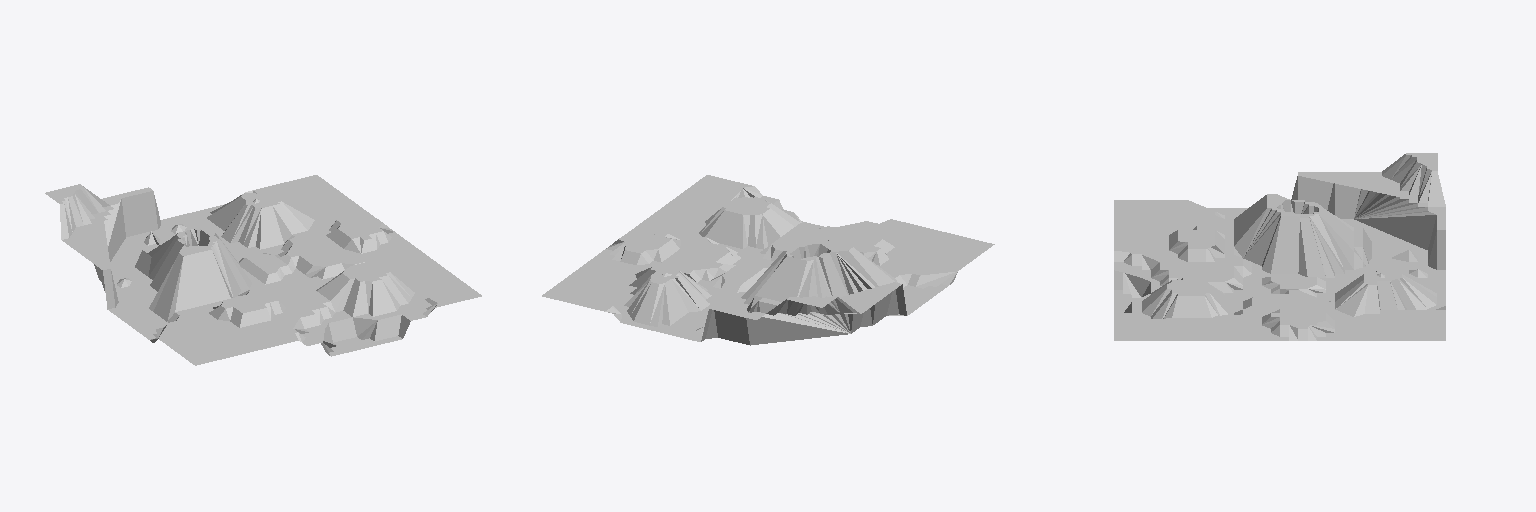
File: terrain.obj
3 views of the same model, side by side, from view 1: azimuth 30°, elevation 25°; view 2: azimuth 150°, elevation 25°; view 3: azimuth 270°, elevation 25° (orthographic).
Visible parts, largest first — view 1: Grid; view 2: Grid; view 3: Grid.
Part boxes in pixels (x1,y1,x2,y2): Grid: (45, 175, 481, 365); Grid: (542, 175, 994, 345); Grid: (1114, 153, 1445, 340).
Size of the model in its own units: 20 by 5.05 by 20.